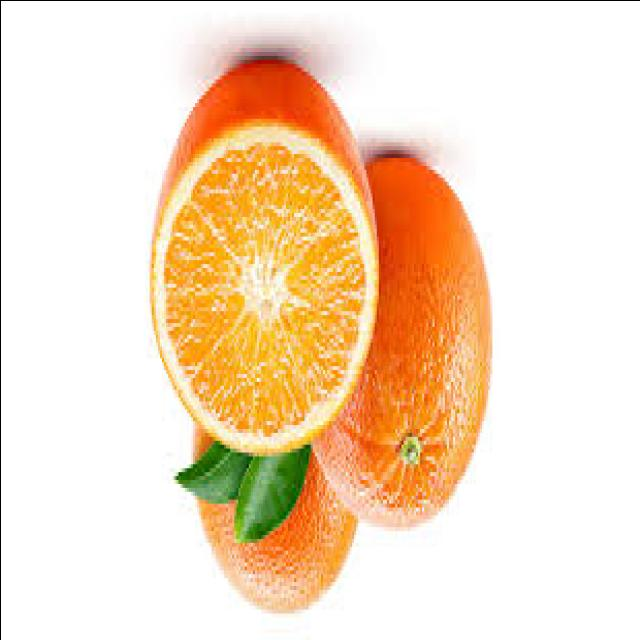orange: (149, 54, 375, 462)
